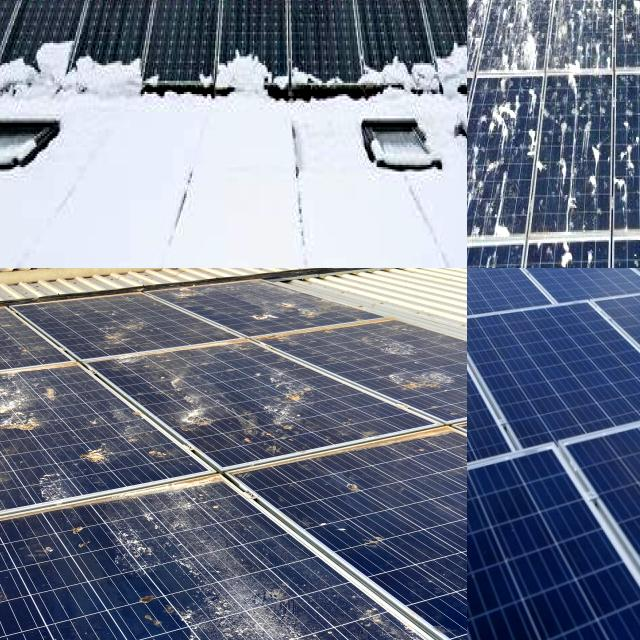bird: (0, 378, 96, 437), (56, 436, 154, 478), (264, 364, 320, 432), (377, 349, 467, 391), (89, 304, 152, 358), (486, 87, 525, 153), (172, 359, 205, 436), (554, 116, 582, 203), (490, 163, 524, 234), (562, 0, 600, 58), (467, 87, 491, 169), (467, 157, 490, 233), (467, 114, 483, 206), (587, 122, 605, 203), (625, 0, 640, 55), (629, 145, 640, 219), (553, 240, 576, 268)
crack: (467, 511, 571, 640), (509, 527, 613, 640), (516, 334, 614, 428), (519, 268, 640, 320), (467, 268, 554, 334), (585, 353, 640, 442), (467, 268, 578, 302), (540, 268, 640, 299), (612, 442, 640, 538), (467, 268, 532, 298)
panel: (245, 42, 413, 268), (0, 27, 98, 268), (120, 77, 232, 268)
